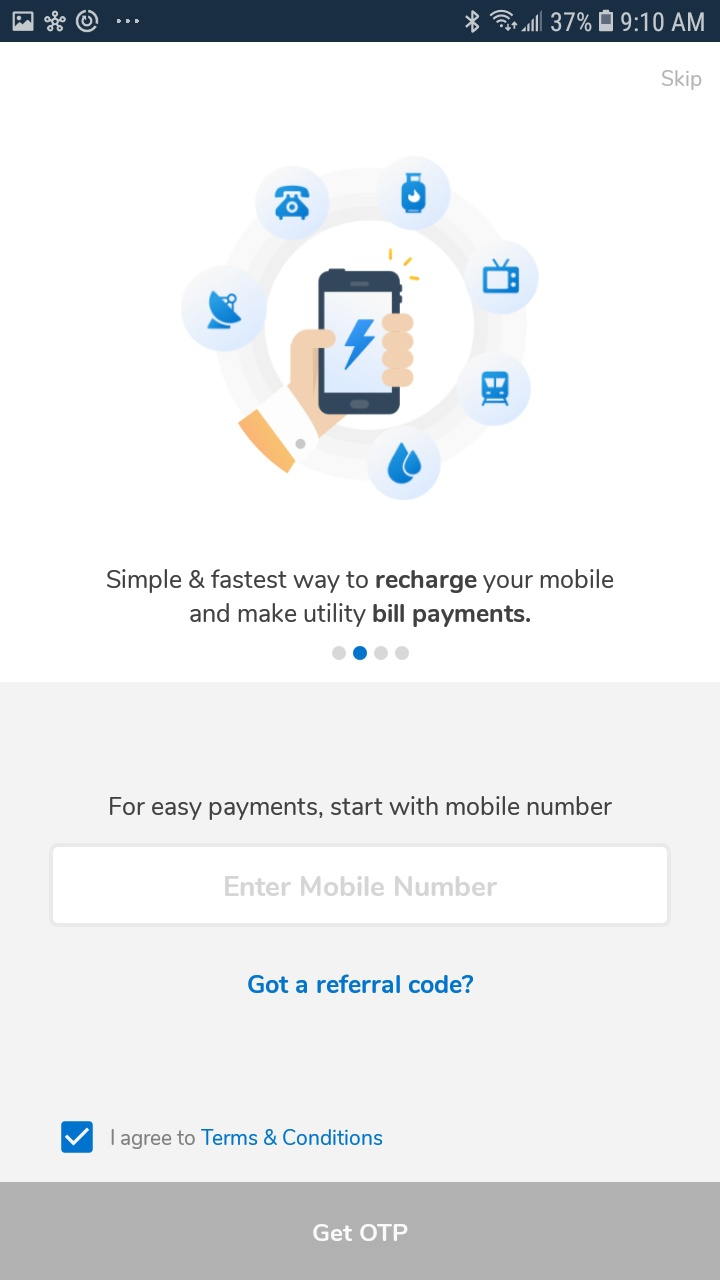CheckedTextView: (61, 1121, 383, 1154)
EditText: (50, 843, 672, 928)
Image: (181, 156, 539, 501)
PageIndicator: (331, 645, 410, 661)
Text: (107, 569, 614, 629), (110, 795, 613, 821), (225, 876, 497, 897), (111, 1129, 383, 1150), (248, 974, 474, 994), (661, 70, 702, 91)
TextButton: (1, 1182, 720, 1280)
UpperTaskBar: (1, 1, 720, 43)
